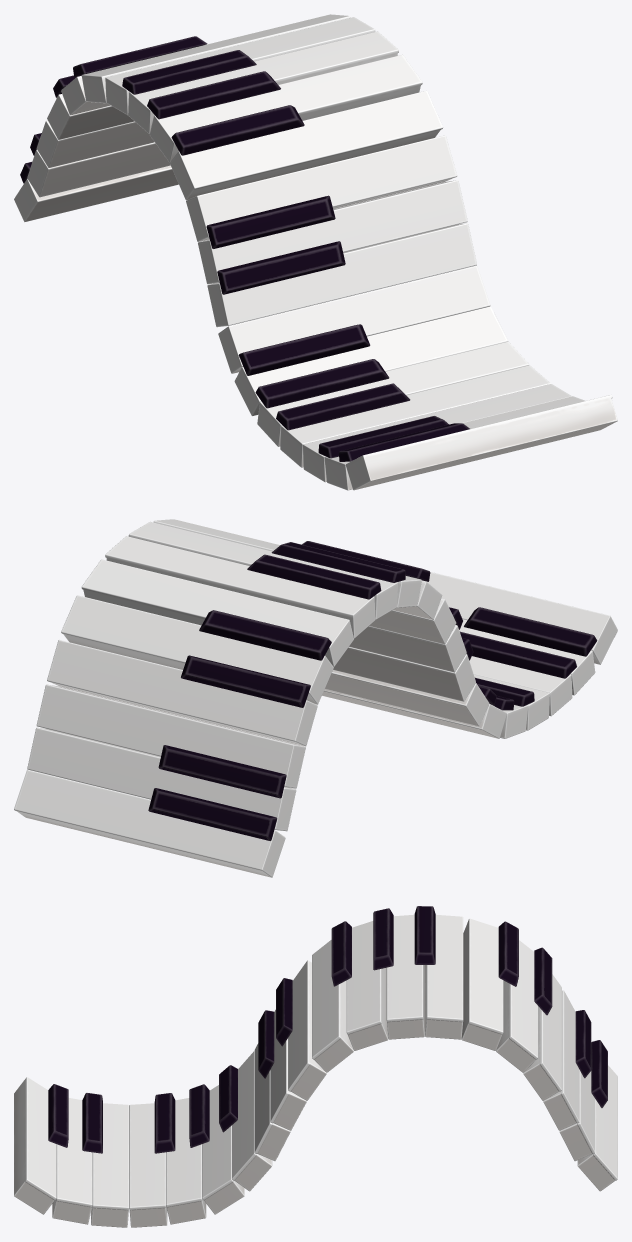
File: piano.fbx
3 renders of one model, top to bottom at view 1: azimuth 30°, elevation 25°; view 2: azimuth 150°, elevation 25°; view 3: azimuth 270°, elevation 25°, orthographic. The views are drawn at different scales.
Parts seen in each view (by area): view 1: pCube47; view 2: pCube47; view 3: pCube47.
Part boxes in pixels (bbox=[...]): pCube47: bbox=[14, 14, 617, 490]; pCube47: bbox=[14, 519, 617, 877]; pCube47: bbox=[14, 906, 617, 1227].
Size of the model in its own units: 80.42 by 80.22 by 200.
